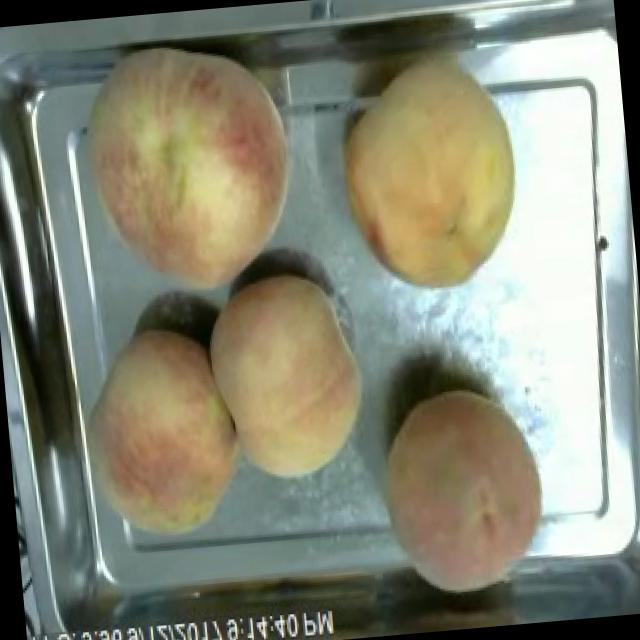Fruit: (54, 26, 318, 314), (320, 49, 538, 303), (364, 372, 565, 611), (68, 312, 257, 554), (193, 256, 380, 494)
